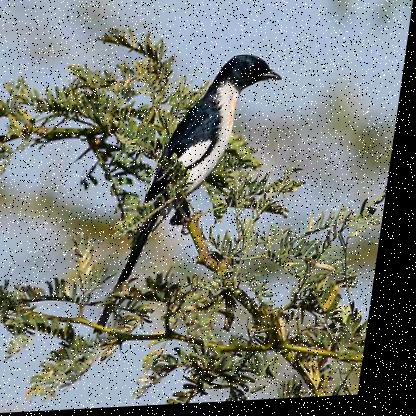Burung: (105, 55, 288, 337)
